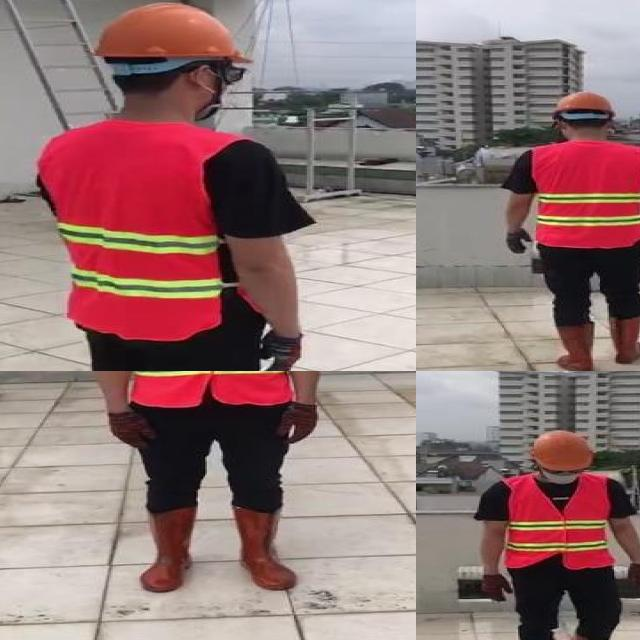boots: (232, 503, 298, 591), (138, 509, 202, 591), (550, 323, 596, 371), (607, 317, 640, 365)
face_mask: (540, 464, 585, 484)
hand_glove: (108, 412, 156, 451), (259, 331, 300, 371), (278, 404, 317, 444), (480, 574, 514, 601), (506, 229, 532, 257), (626, 565, 640, 585)
head_helmet: (97, 0, 251, 67), (529, 429, 596, 472), (552, 92, 616, 116)
person: (24, 3, 335, 371), (74, 371, 341, 598), (502, 91, 640, 371), (475, 425, 640, 640)
vest: (38, 122, 246, 342), (528, 141, 640, 246), (498, 475, 614, 569), (120, 371, 287, 407)
